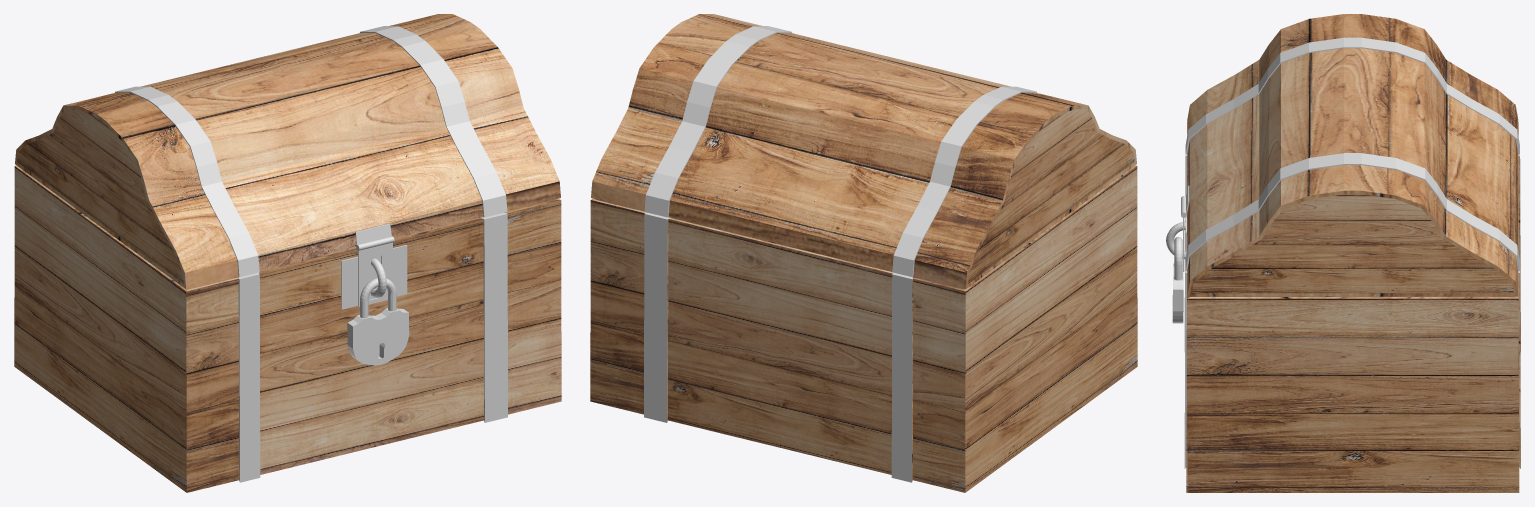
Rendered from TreasureChest.fbx.
3 views of the same model, side by side, from view 1: azimuth 30°, elevation 25°; view 2: azimuth 150°, elevation 25°; view 3: azimuth 270°, elevation 25° (orthographic). The views are drawn at different scales.
Visible parts, largest first — view 1: Chest, Lock and Clasp; view 2: Chest; view 3: Chest, Lock and Clasp.
Part boxes in pixels (bbox=[...]): Chest: bbox=[14, 14, 561, 492]; Lock and Clasp: bbox=[341, 223, 409, 365]; Chest: bbox=[590, 14, 1137, 492]; Chest: bbox=[1184, 14, 1520, 492]; Lock and Clasp: bbox=[1166, 185, 1189, 323].
Size of the model in its own units: 251 by 202 by 213.
